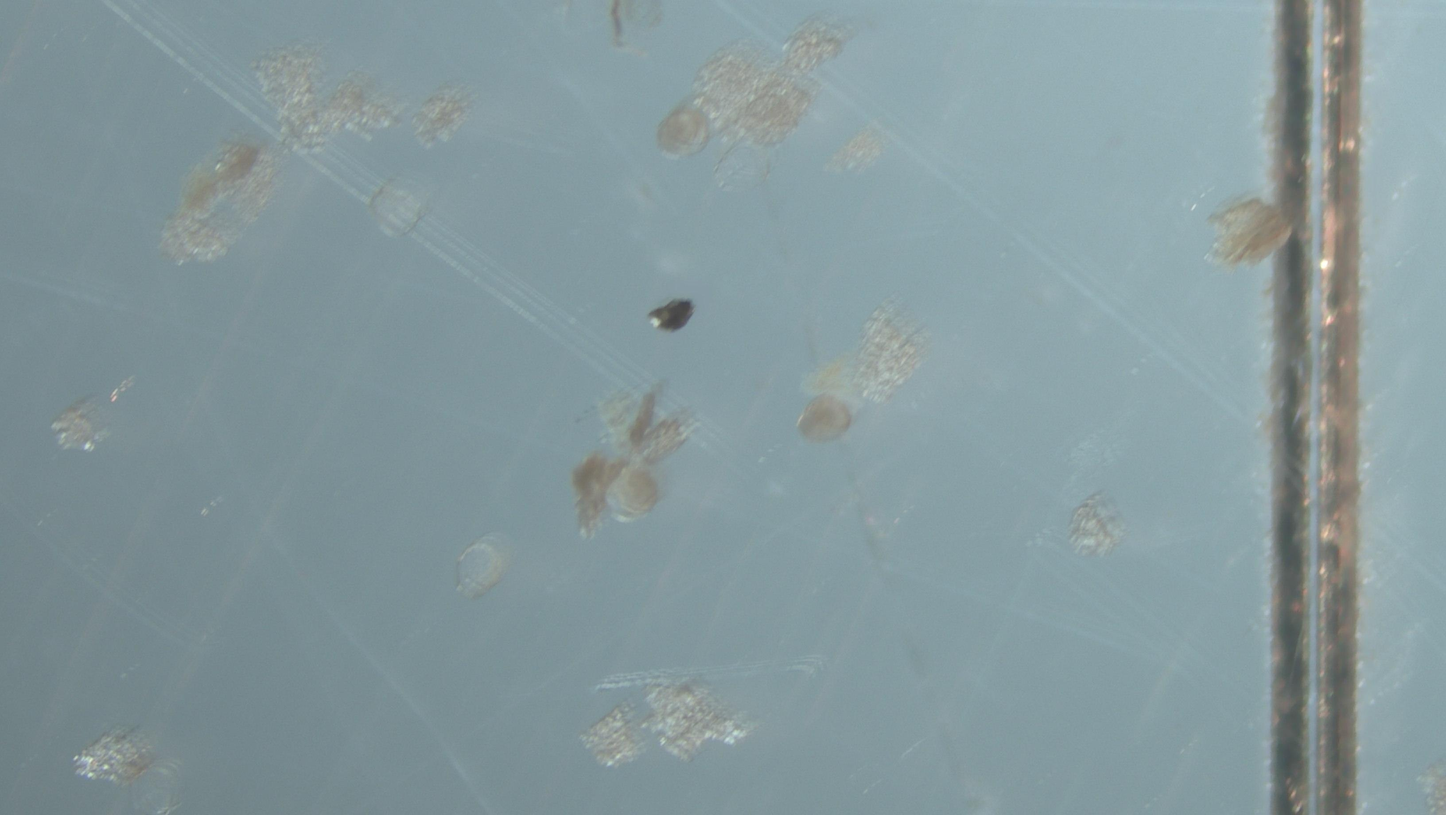dead: (368, 175, 430, 237), (456, 533, 511, 599)
live: (610, 462, 661, 522), (656, 101, 710, 156), (798, 394, 852, 442)
